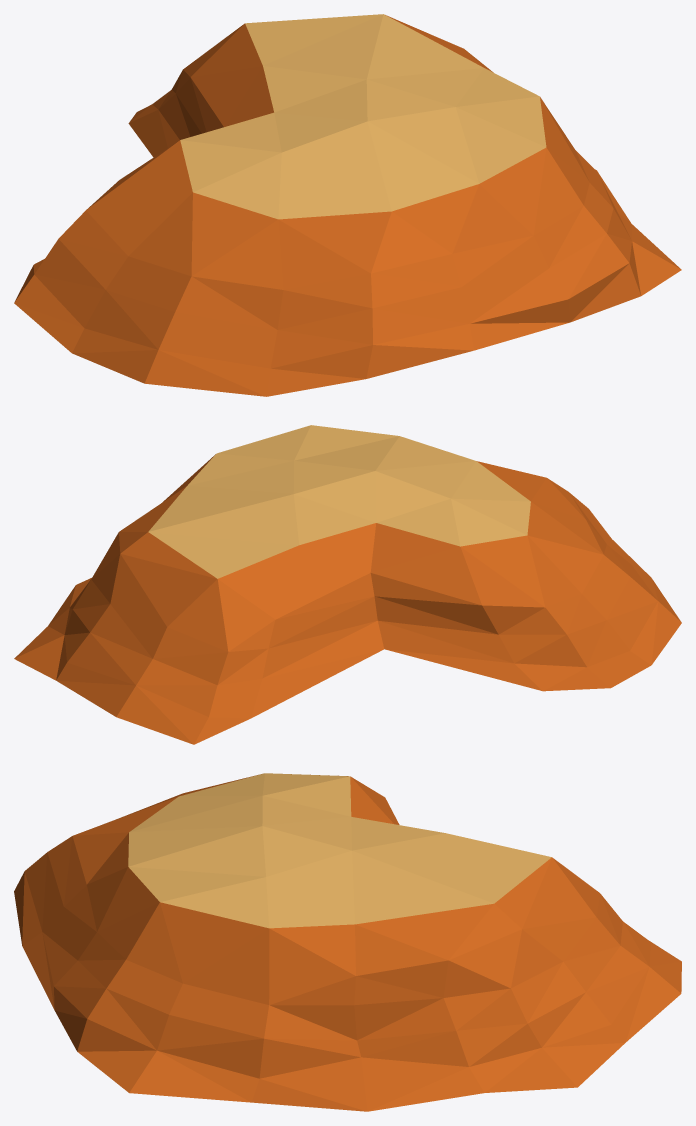
The model's file is desert_relief_4.fbx.
3 views of the same model, one above another, from view 1: azimuth 30°, elevation 25°; view 2: azimuth 150°, elevation 25°; view 3: azimuth 270°, elevation 25° (orthographic). The views are drawn at different scales.
Visible parts, largest first — view 1: Icosphere.301; view 2: Icosphere.301; view 3: Icosphere.301.
Part boxes in pixels (left/top/right/bottom): Icosphere.301: left=14, top=14, right=681, bottom=396; Icosphere.301: left=14, top=425, right=681, bottom=744; Icosphere.301: left=14, top=773, right=681, bottom=1111.
Bounding box in the file's own units: 1170 × 303 × 1184.
